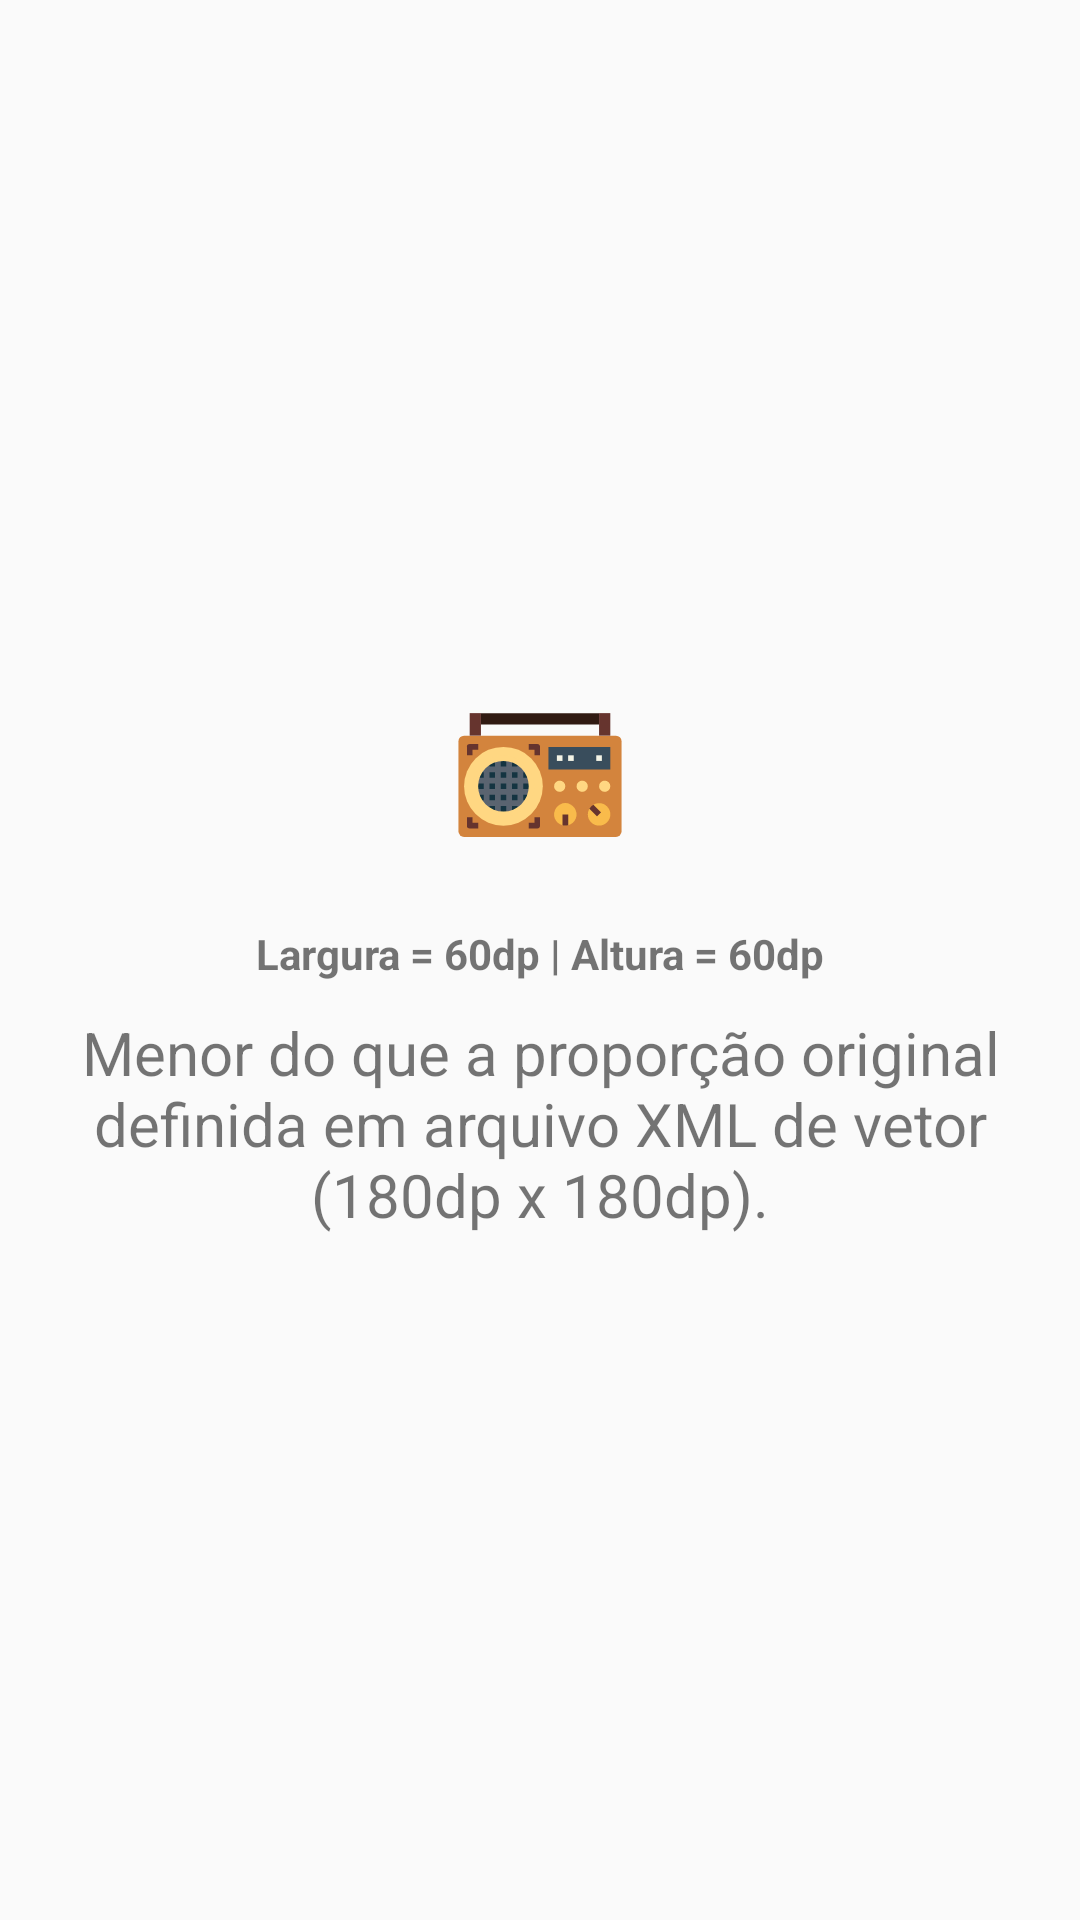

Icon bounding boxes for this 1080px x 1920px phone screenshot, format (x1, y1, x2, y2):
Drawable vetorial de rádio: (458, 713, 622, 837)
